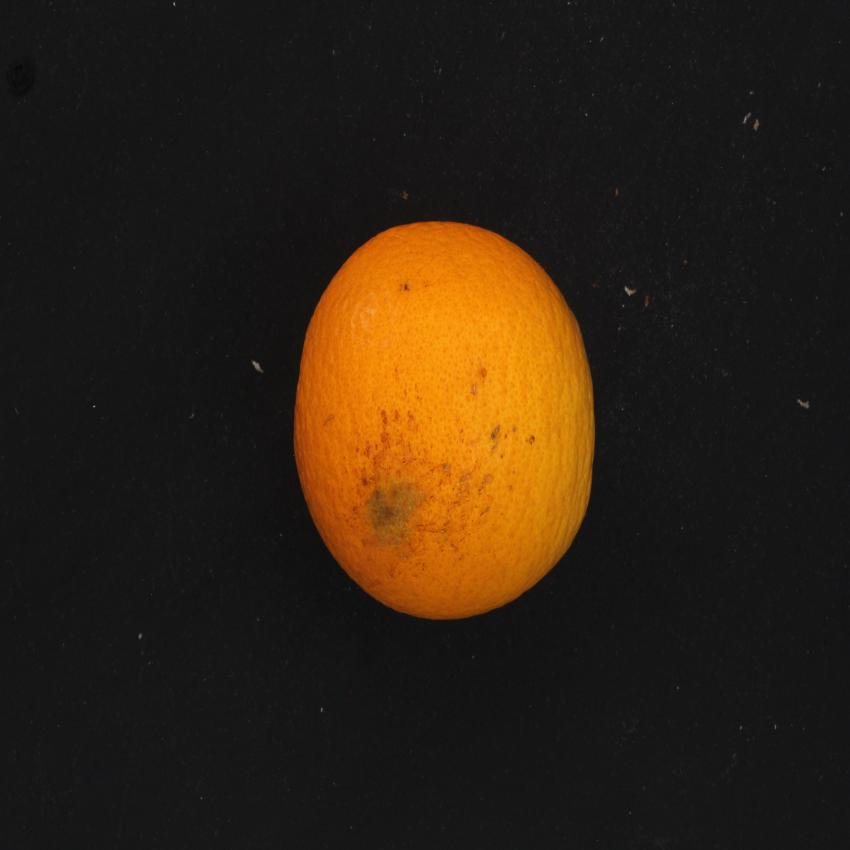Buen estado: (282, 199, 612, 640)
